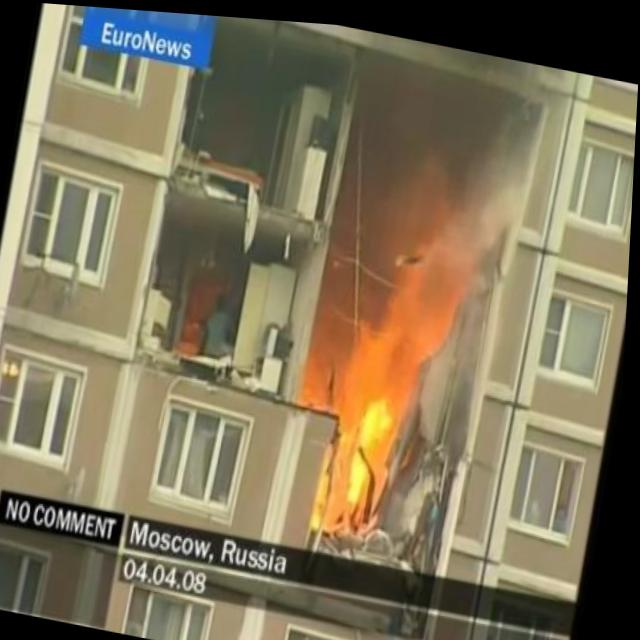fire: (321, 222, 467, 538)
